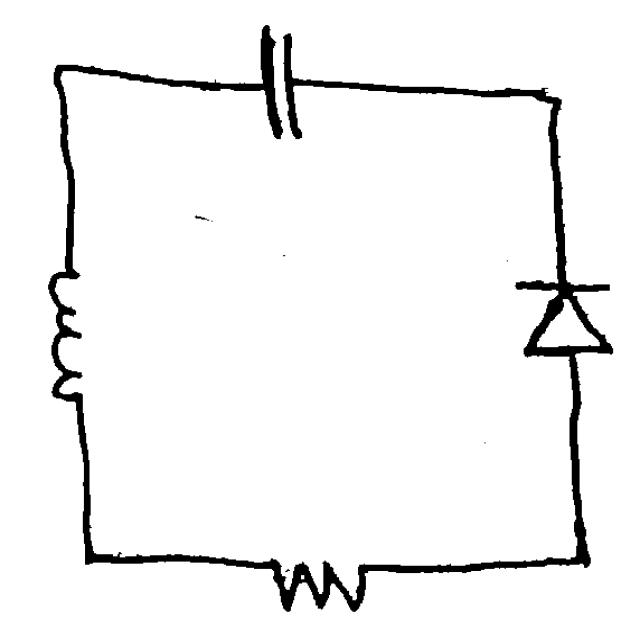capacitor: (239, 10, 330, 154)
diode: (504, 256, 629, 371)
inductor: (31, 248, 117, 421)
resistor: (245, 539, 386, 619)
